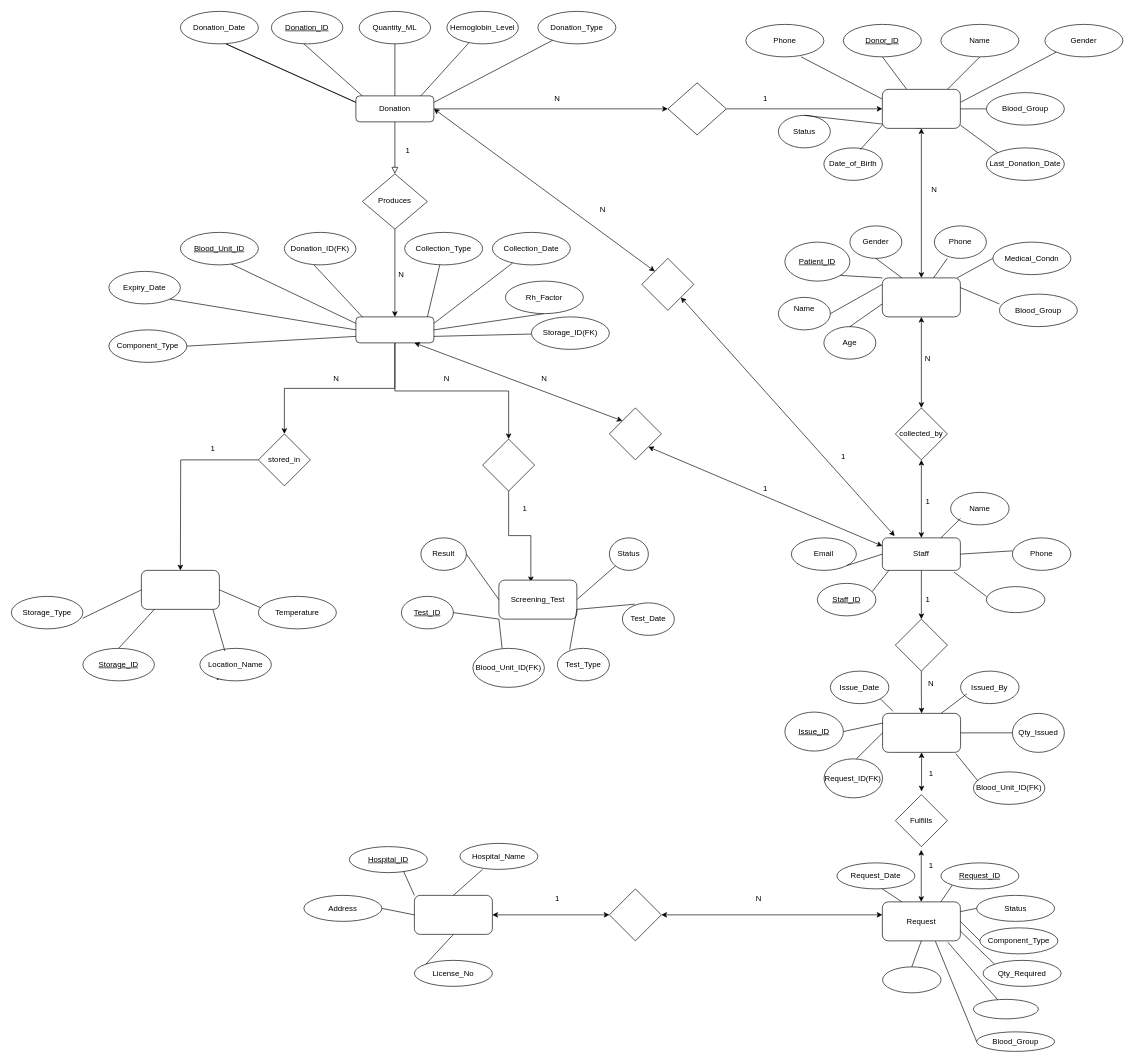
Image size: 1134x1063. Some labels were removed from this diagram. The centre of each missing label's shape, as x and y in pixels:
Blood_Unit: the point at 394,329
collected: the point at 667,284
Donor: the point at 921,108
Hospital: the point at 453,914
Issue: the point at 921,732
issued_as: the point at 508,464
makes: the point at 696,108
managed: the point at 635,433
Patient: the point at 921,297
Priority: the point at 1005,1009
processed: the point at 921,644
Requested by: the point at 635,914
Required_Date: the point at 911,979
Role: the point at 1015,599
Storage: the point at 180,589
